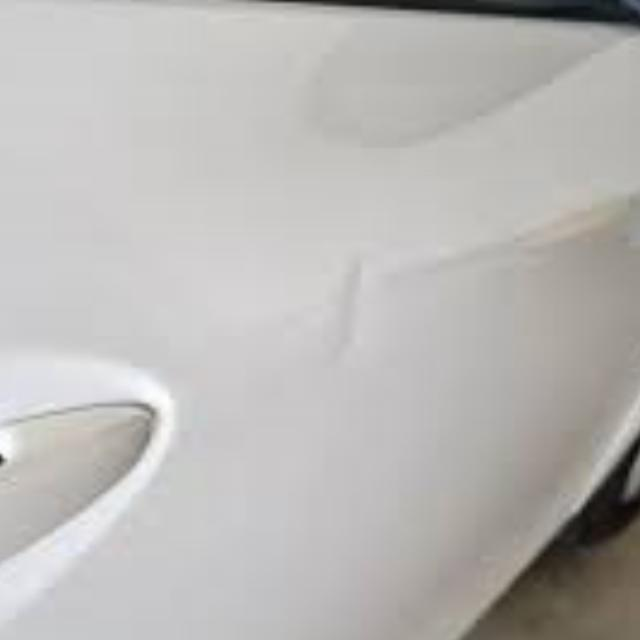dents: (300, 242, 398, 366)
